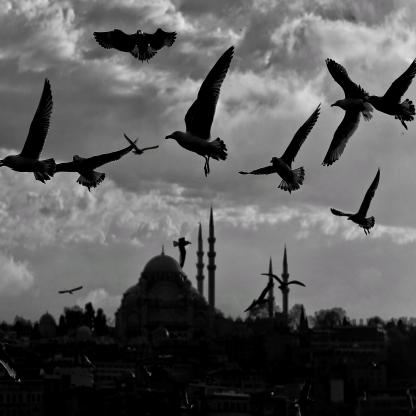bird: (164, 45, 236, 177), (238, 104, 323, 194), (0, 76, 58, 184), (321, 57, 373, 166), (44, 138, 138, 192), (362, 59, 416, 129), (330, 167, 380, 237), (94, 28, 178, 64), (261, 272, 307, 294), (243, 282, 272, 314), (123, 132, 160, 156), (172, 237, 194, 271), (58, 286, 83, 295)
